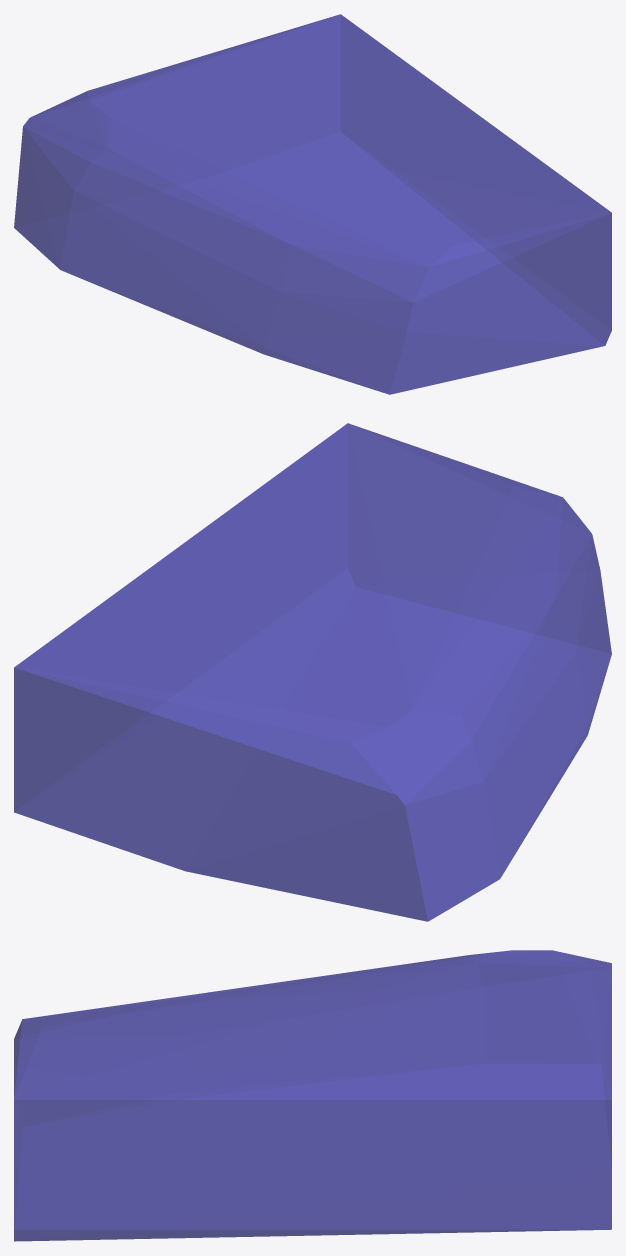
3 renders of one model, top to bottom at view 1: azimuth 30°, elevation 25°; view 2: azimuth 150°, elevation 25°; view 3: azimuth 270°, elevation 25°, orthographic. The views are drawn at different scales.
Parts seen in each view (by area): view 1: Shape_IndexedFaceSet.013_Shape_IndexedFaceSet.9148; view 2: Shape_IndexedFaceSet.013_Shape_IndexedFaceSet.9148; view 3: Shape_IndexedFaceSet.013_Shape_IndexedFaceSet.9148.
Part boxes in pixels (box(x1,y1,x2,y2)): Shape_IndexedFaceSet.013_Shape_IndexedFaceSet.9148: box(14, 14, 611, 394); Shape_IndexedFaceSet.013_Shape_IndexedFaceSet.9148: box(14, 423, 611, 921); Shape_IndexedFaceSet.013_Shape_IndexedFaceSet.9148: box(14, 950, 611, 1241).
Size of the model in its own units: 0.137 by 0.051 by 0.1906.
